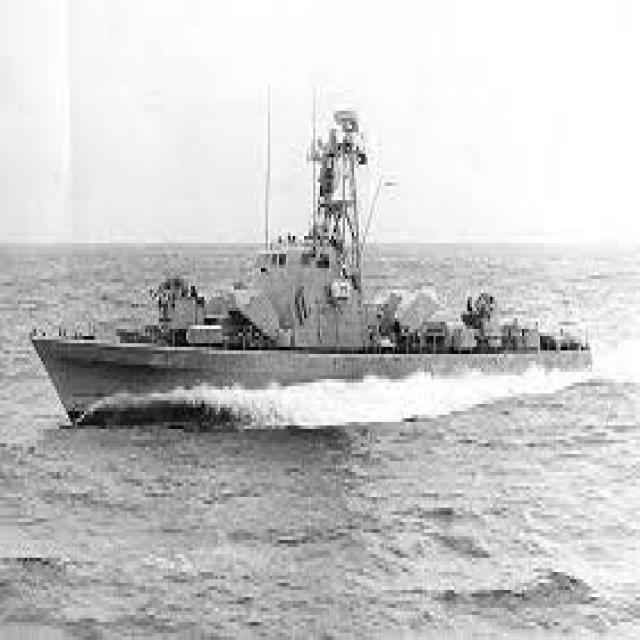navalvessels: (39, 59, 607, 467)
